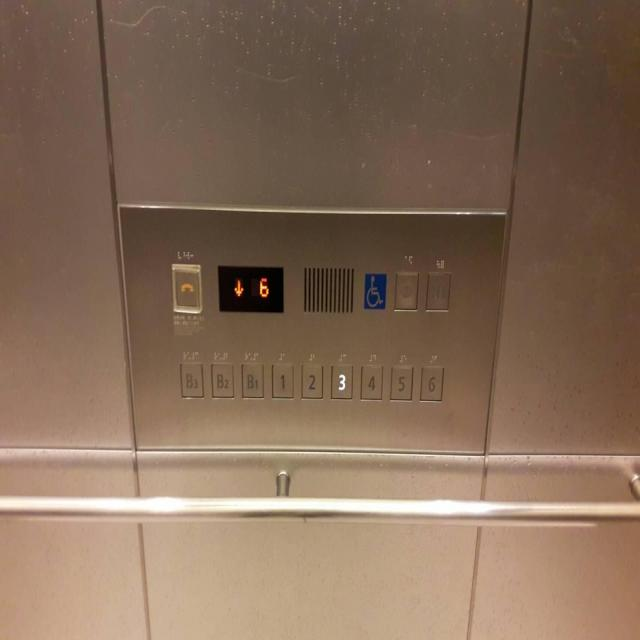1: (270, 360, 296, 402)
2: (298, 359, 324, 402)
3: (328, 359, 354, 402)
4: (358, 361, 384, 402)
5: (388, 361, 415, 403)
6: (418, 361, 445, 405)
B1: (240, 359, 266, 402)
B2: (209, 359, 236, 402)
B3: (177, 359, 205, 400)
CH: (362, 269, 388, 312)
call: (170, 259, 204, 316)
close: (423, 268, 453, 313)
led: (216, 262, 285, 316)
open: (392, 268, 421, 314)
